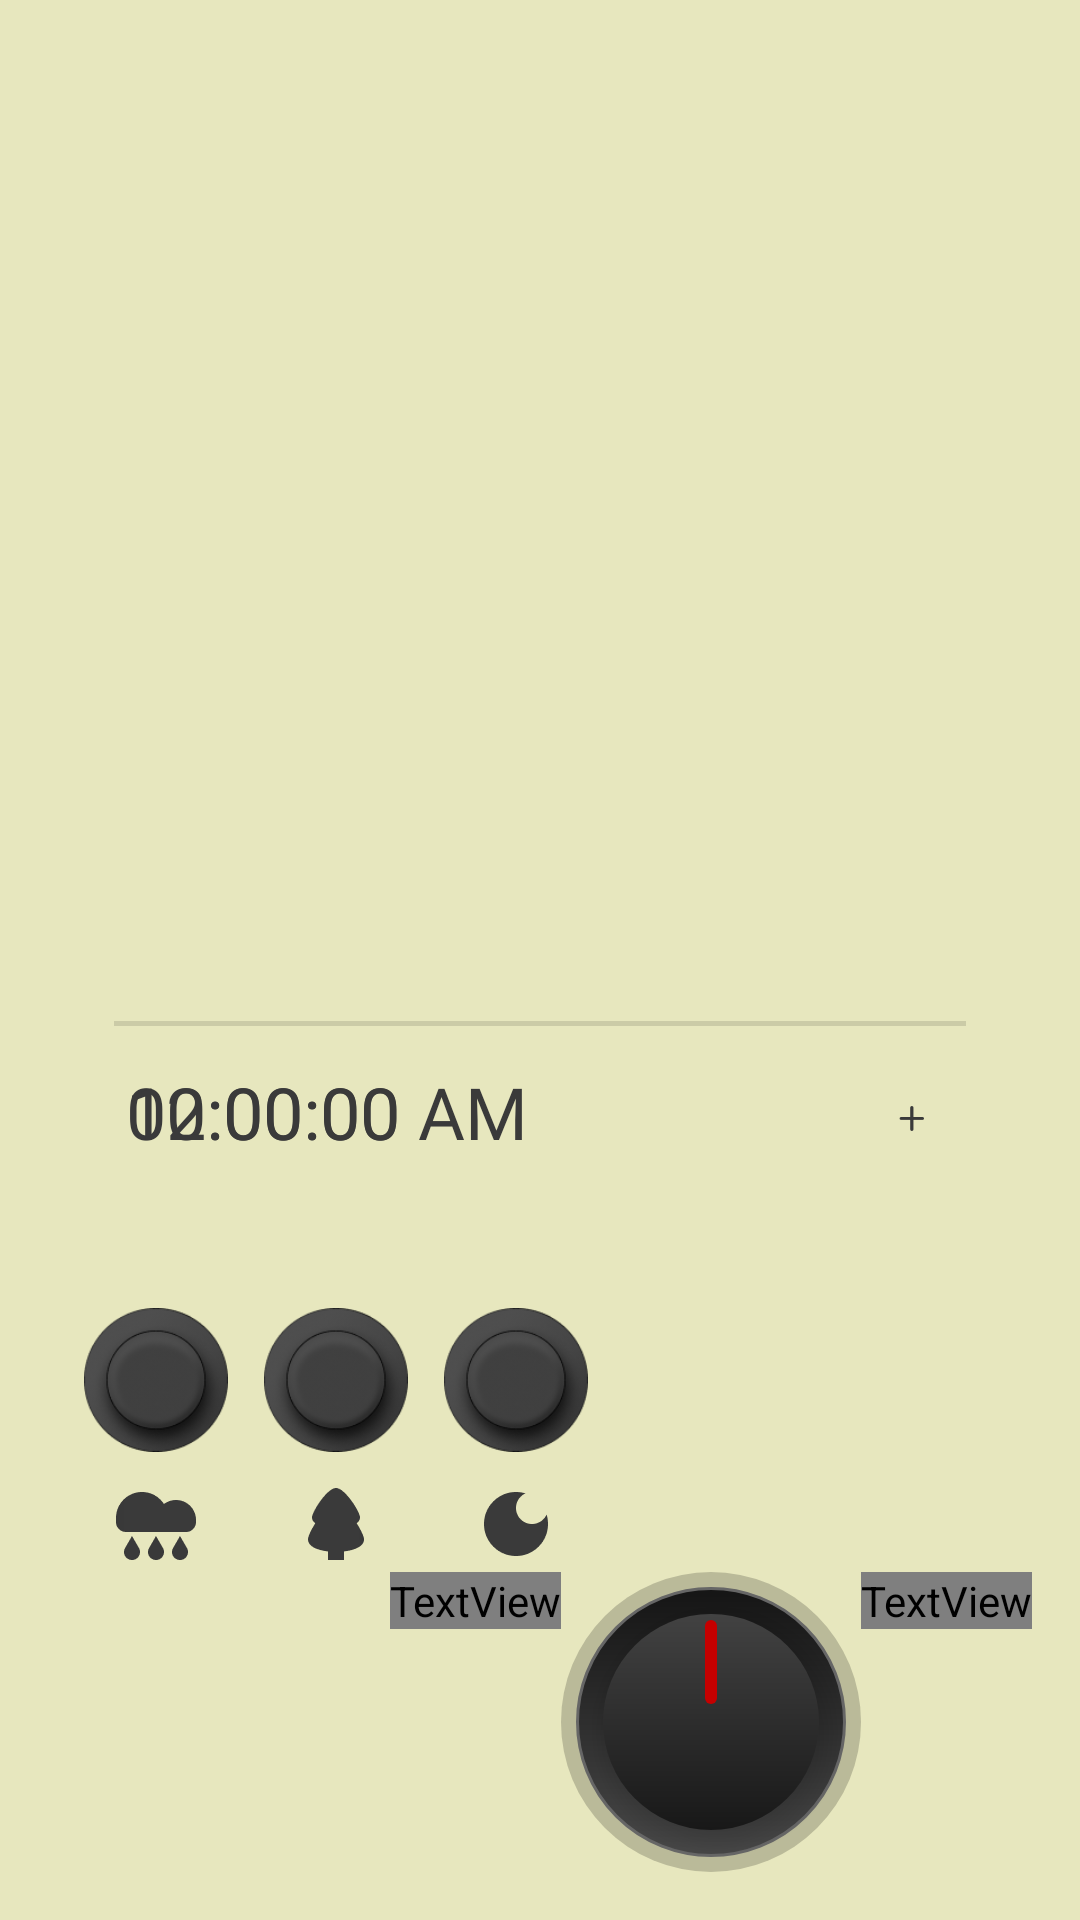

Where icons sit on this 1080px x 1920px app screen, as (x1, y1, x2, y2):
knob: (561, 1572, 861, 1872)
transition forest: (308, 1488, 364, 1560)
transition rain: (116, 1492, 196, 1560)
